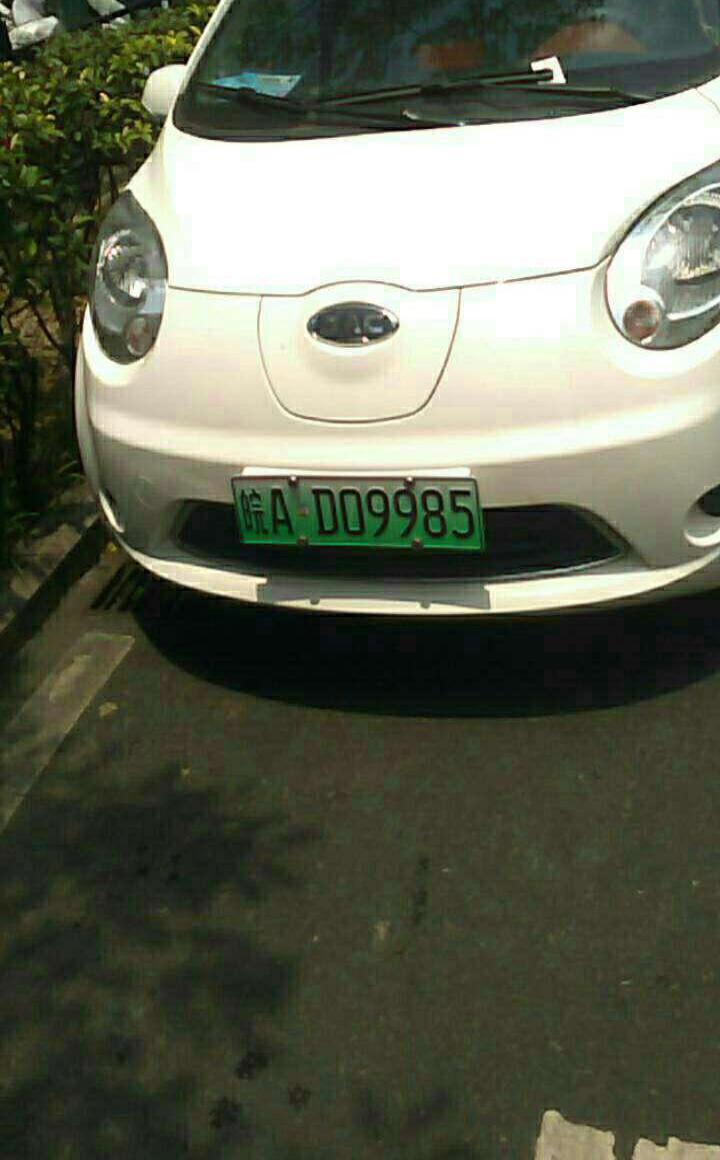car_id: (236, 480, 482, 546)
